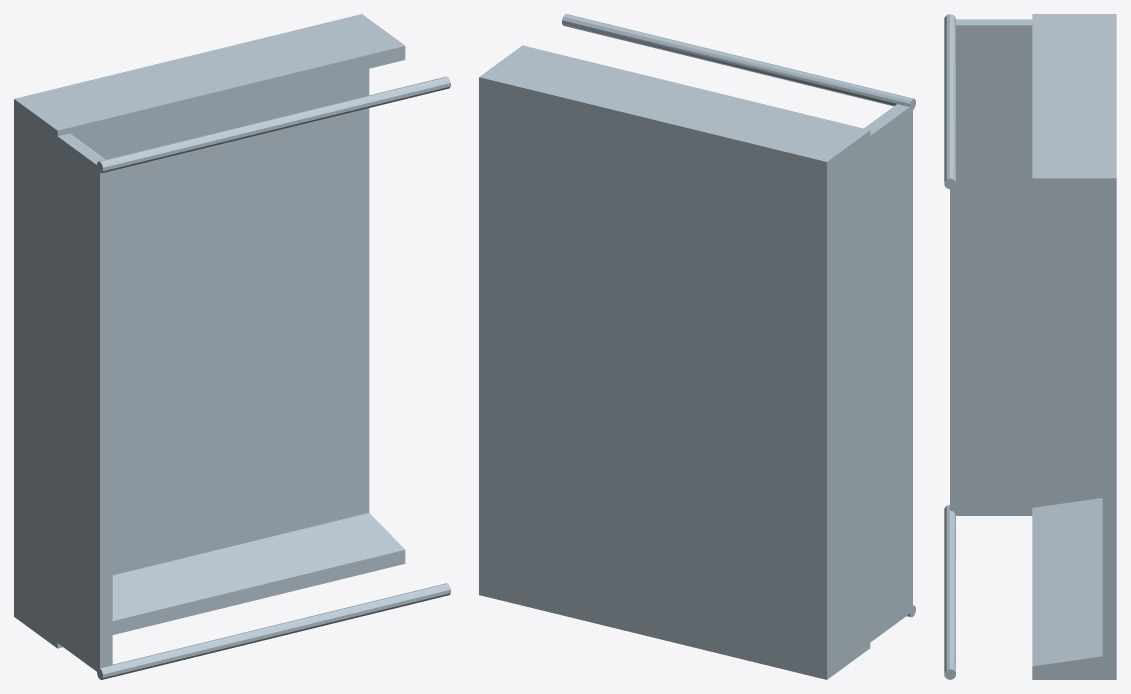
Rendered from mobile-dishwasher__Drawer_interior.obj.
3 views of the same model, side by side, from view 1: azimuth 30°, elevation 25°; view 2: azimuth 150°, elevation 25°; view 3: azimuth 270°, elevation 25° (orthographic). The views are drawn at different scales.
Parts seen in each view (by area): view 1: interior; view 2: interior; view 3: interior.
Boxes of the visible parts, <box> form: interior: <box>14,14,450,679</box>; interior: <box>479,14,915,679</box>; interior: <box>944,14,1116,679</box>.
Bounding box in the file's own units: 0.388 × 0.552 × 0.1717.
